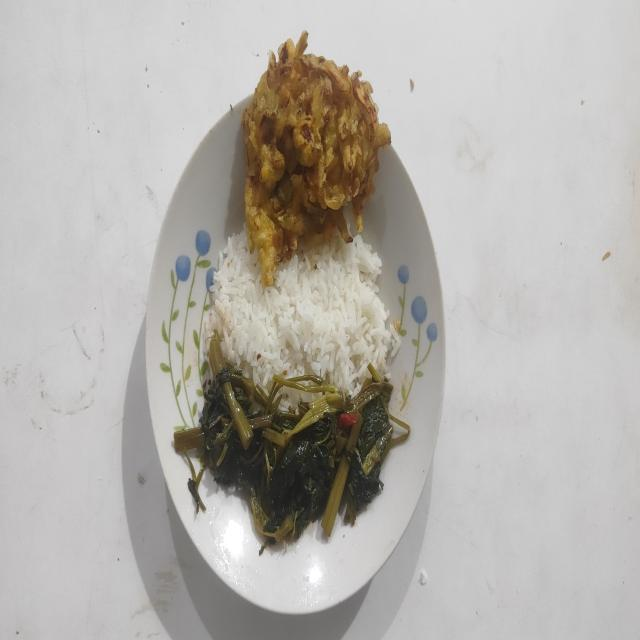nasi_putih: (200, 232, 400, 396)
tumis_kangkung: (174, 335, 410, 554)
